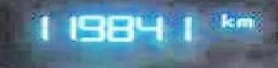1: (34, 10, 49, 45), (178, 14, 193, 47), (65, 12, 76, 47)
4: (131, 13, 165, 40)
8: (105, 12, 131, 43)
9: (78, 13, 105, 43)
X: (216, 10, 231, 28), (234, 15, 252, 28)
